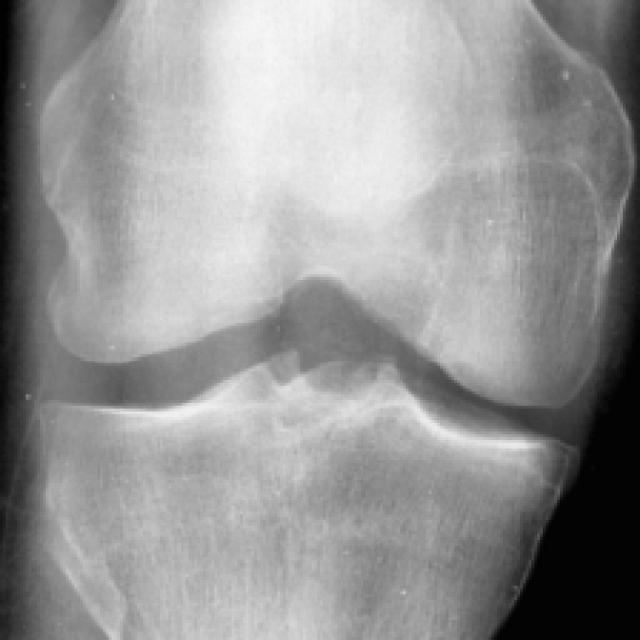femur: (34, 0, 637, 412)
tibia: (38, 358, 566, 640)
